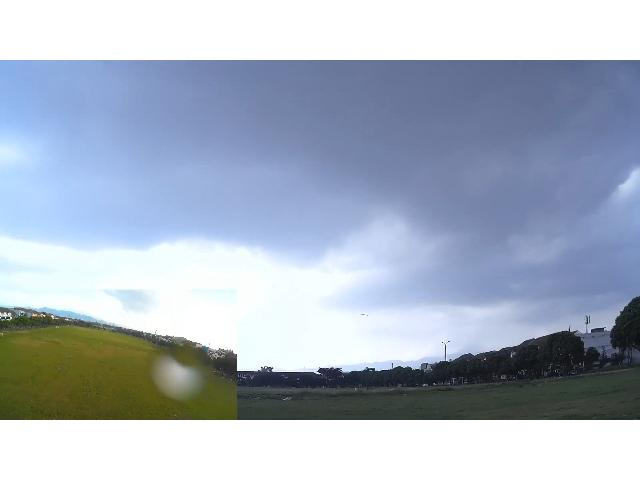Anti-Drone: (349, 310, 377, 322)
